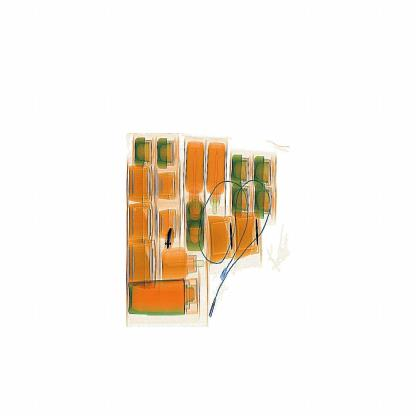wrench: (164, 226, 180, 260)
